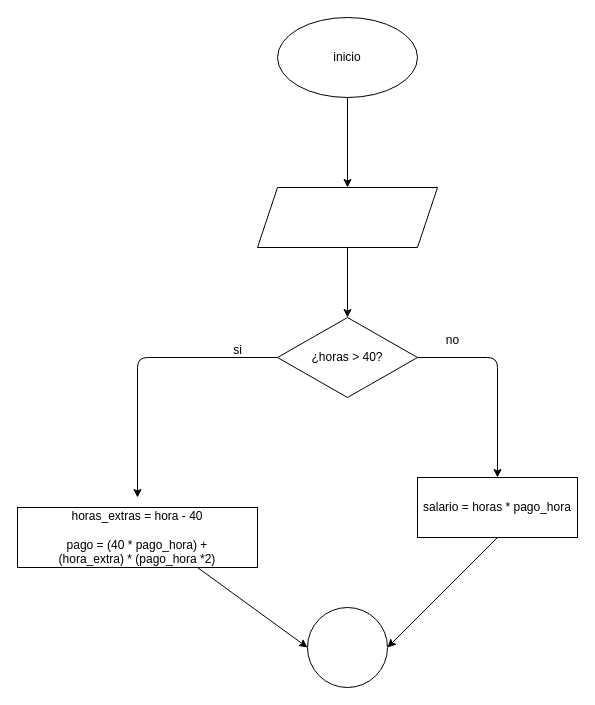
Image size: 595x705. Some labels were removed from this diagram. Here are the shapes that lost their labels. From the top down, the centre of each, then its label:
At point (347, 217): "ingresar horas trabajadas y pago por hora".
At point (347, 647): "fin".
